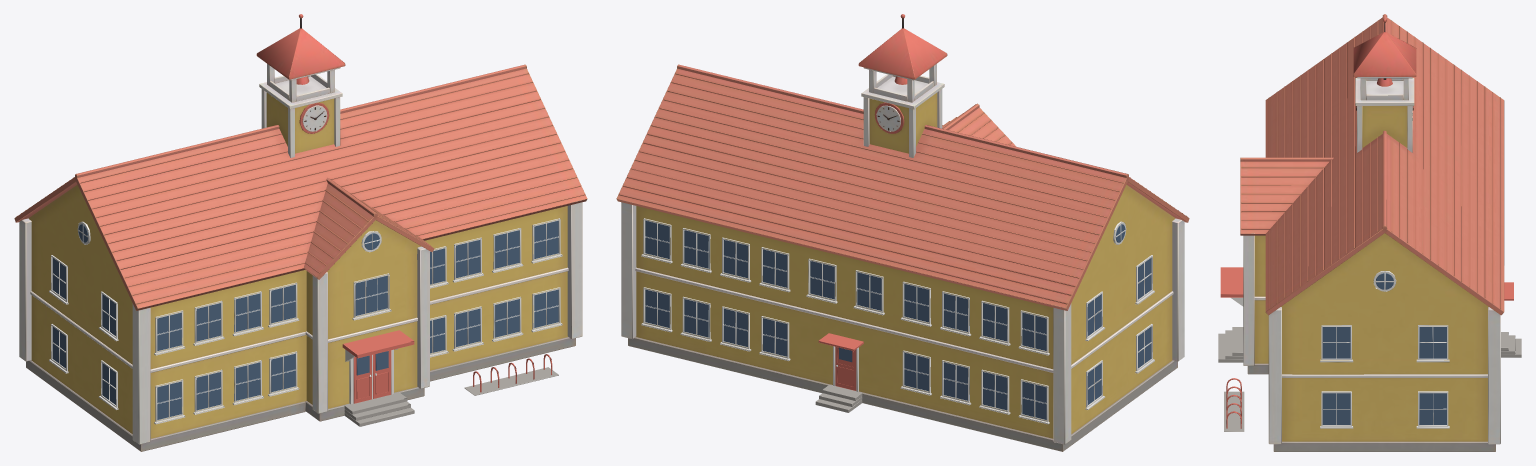
The model's file is school-building-light.fbx.
3 views of the same model, side by side, from view 1: azimuth 30°, elevation 25°; view 2: azimuth 150°, elevation 25°; view 3: azimuth 270°, elevation 25° (orthographic). The views are drawn at different scales.
Visible parts, largest first — view 1: school-building_body, school-building_details; view 2: school-building_body, school-building_details; view 3: school-building_body, school-building_details.
Part boxes in pixels (left/top/right/bottom): school-building_body: left=14, top=14, right=587, bottom=451; school-building_details: left=49, top=218, right=562, bottom=426; school-building_body: left=616, top=14, right=1189, bottom=451; school-building_details: left=641, top=218, right=1154, bottom=424; school-building_body: left=1240, top=14, right=1504, bottom=451; school-building_details: left=1218, top=267, right=1521, bottom=431.
Size of the model in its own units: 22.9 by 16.69 by 13.86.
Materials: 5 (1 with a texture image).
